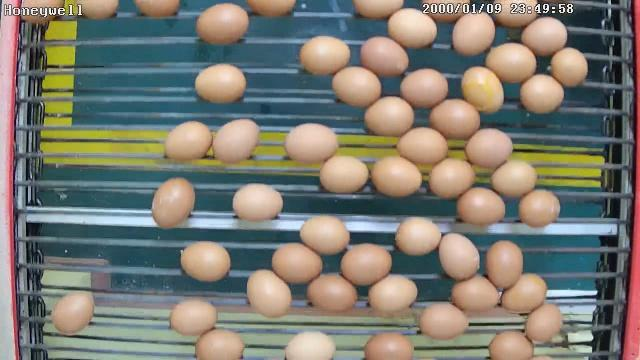egg: (193, 1, 250, 47), (150, 175, 196, 230), (246, 267, 293, 320), (428, 96, 482, 142), (338, 242, 392, 288), (284, 122, 340, 166), (270, 240, 323, 286), (368, 153, 422, 198), (162, 120, 214, 166), (330, 64, 382, 110), (193, 62, 247, 106), (484, 42, 538, 86), (178, 240, 232, 284), (362, 95, 416, 139), (298, 214, 351, 258), (48, 288, 96, 336), (298, 34, 351, 77), (460, 65, 506, 114), (366, 273, 418, 316), (231, 182, 284, 224), (396, 125, 450, 166), (212, 118, 260, 164), (500, 270, 548, 316), (416, 302, 471, 342), (398, 66, 449, 109), (306, 271, 358, 313), (438, 231, 481, 281), (456, 185, 506, 228), (387, 8, 438, 50), (318, 154, 370, 195), (428, 156, 476, 200), (520, 15, 569, 58), (464, 127, 513, 170), (358, 36, 409, 77), (518, 72, 565, 116), (489, 157, 538, 199), (168, 297, 218, 338), (451, 11, 496, 56), (484, 240, 524, 290), (450, 274, 500, 314), (393, 216, 441, 256), (518, 188, 562, 230), (522, 299, 563, 343), (193, 327, 246, 360), (550, 47, 590, 88), (487, 328, 535, 360)
